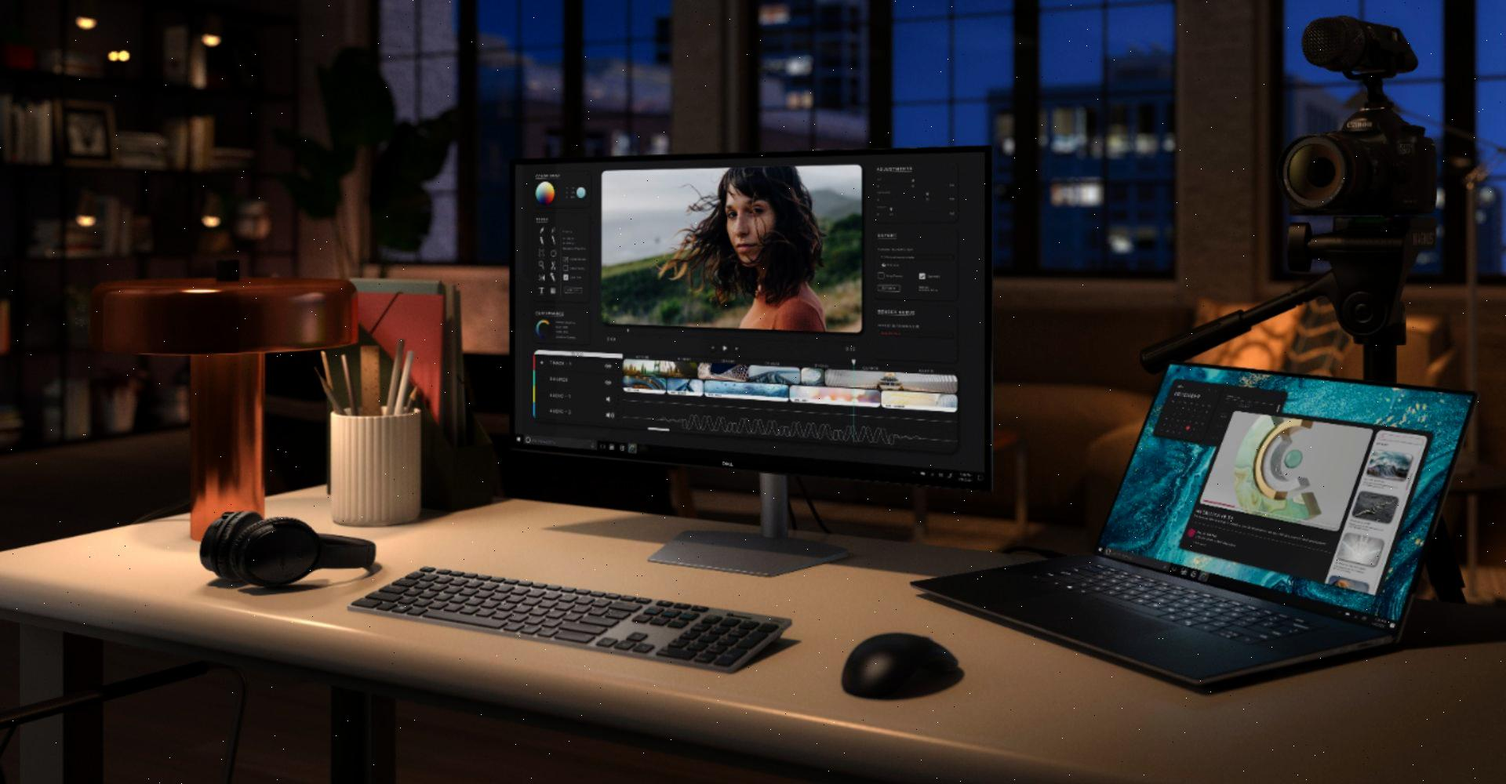camera: (1248, 90, 1466, 235)
head_phone: (183, 475, 384, 604)
keyboard: (333, 547, 807, 691)
laptop: (893, 354, 1489, 700)
mic: (1291, 2, 1426, 88)
monitor: (499, 131, 1016, 513)
mouse: (820, 612, 990, 739)
